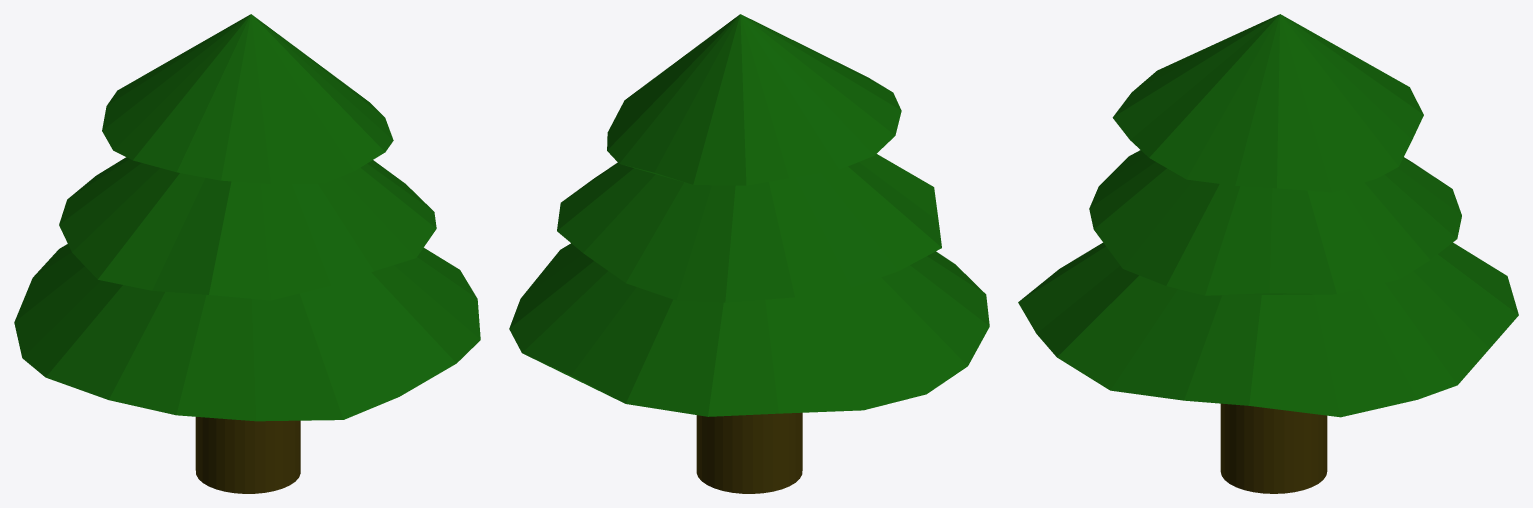
The model's file is tree.fbx.
The picture shows the model from 3 angles, left to right: view 1: azimuth 30°, elevation 25°; view 2: azimuth 150°, elevation 25°; view 3: azimuth 270°, elevation 25°; orthographic projection.
Parts seen in each view (by area): view 1: Cone, Cone.001, Cone.002, Cylinder; view 2: Cone, Cone.001, Cone.002, Cylinder; view 3: Cone, Cone.001, Cone.002, Cylinder.
Boxes of the visible parts, x1=… form: Cone: x1=14, y1=244, x2=480, y2=421; Cone.001: x1=59, y1=157, x2=436, y2=300; Cone.002: x1=102, y1=14, x2=393, y2=183; Cylinder: x1=195, y1=417, x2=300, y2=493; Cone: x1=509, y1=243, x2=989, y2=416; Cone.001: x1=557, y1=154, x2=941, y2=302; Cone.002: x1=607, y1=14, x2=901, y2=185; Cylinder: x1=696, y1=412, x2=802, y2=493; Cone: x1=1018, y1=242, x2=1518, y2=417; Cone.001: x1=1089, y1=150, x2=1461, y2=295; Cone.002: x1=1112, y1=14, x2=1423, y2=192; Cylinder: x1=1220, y1=403, x2=1327, y2=493.
Bounding box in the file's own units: 270 × 286 × 282.
